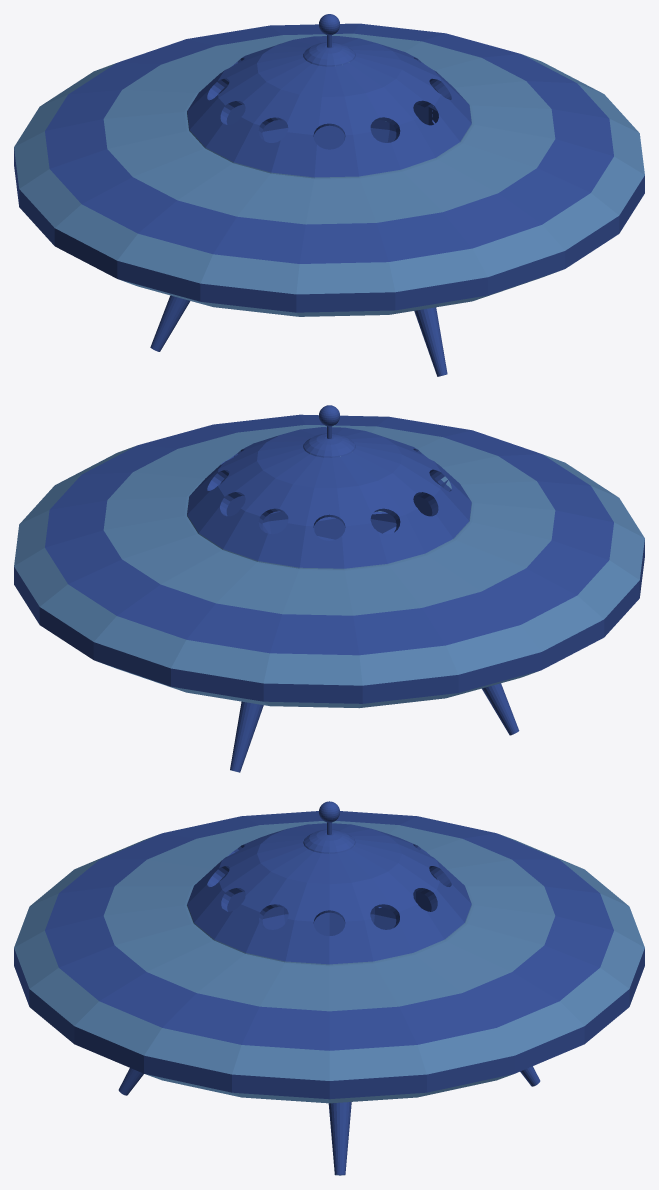
The model's file is nlo.fbx.
3 views of the same model, one above another, from view 1: azimuth 30°, elevation 25°; view 2: azimuth 150°, elevation 25°; view 3: azimuth 270°, elevation 25° (orthographic).
Parts seen in each view (by area): view 1: UFO.001; view 2: UFO.001; view 3: UFO.001.
Part boxes in pixels (x1=…): UFO.001: x1=14, y1=14, x2=644, y2=376; UFO.001: x1=14, y1=405, x2=644, y2=772; UFO.001: x1=14, y1=801, x2=644, y2=1175.
Bounding box in the file's own units: 1397 × 703 × 1397.
